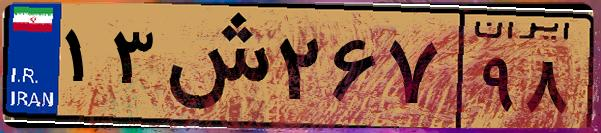1: (57, 26, 110, 100)
2: (270, 28, 330, 110)
3: (110, 28, 158, 98)
6: (330, 28, 385, 110)
7: (385, 28, 445, 110)
8: (525, 38, 570, 115)
9: (475, 38, 525, 113)
ش: (158, 12, 270, 120)
